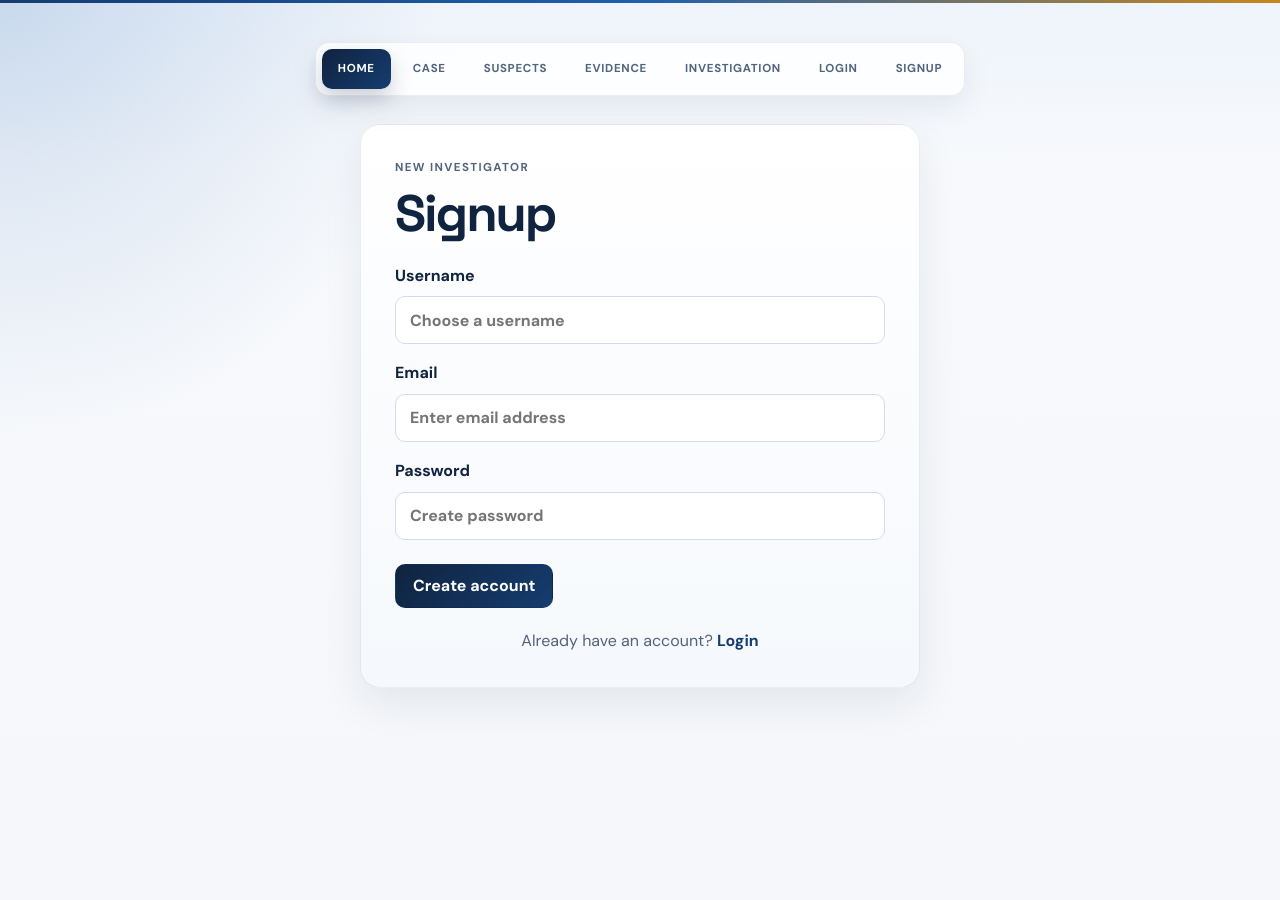
Scenario: Authentication pages › requires signup fields and a minimum password length
Click the button "Create account". click: {"x": 474, "y": 586}
box: [395,564,554,608]
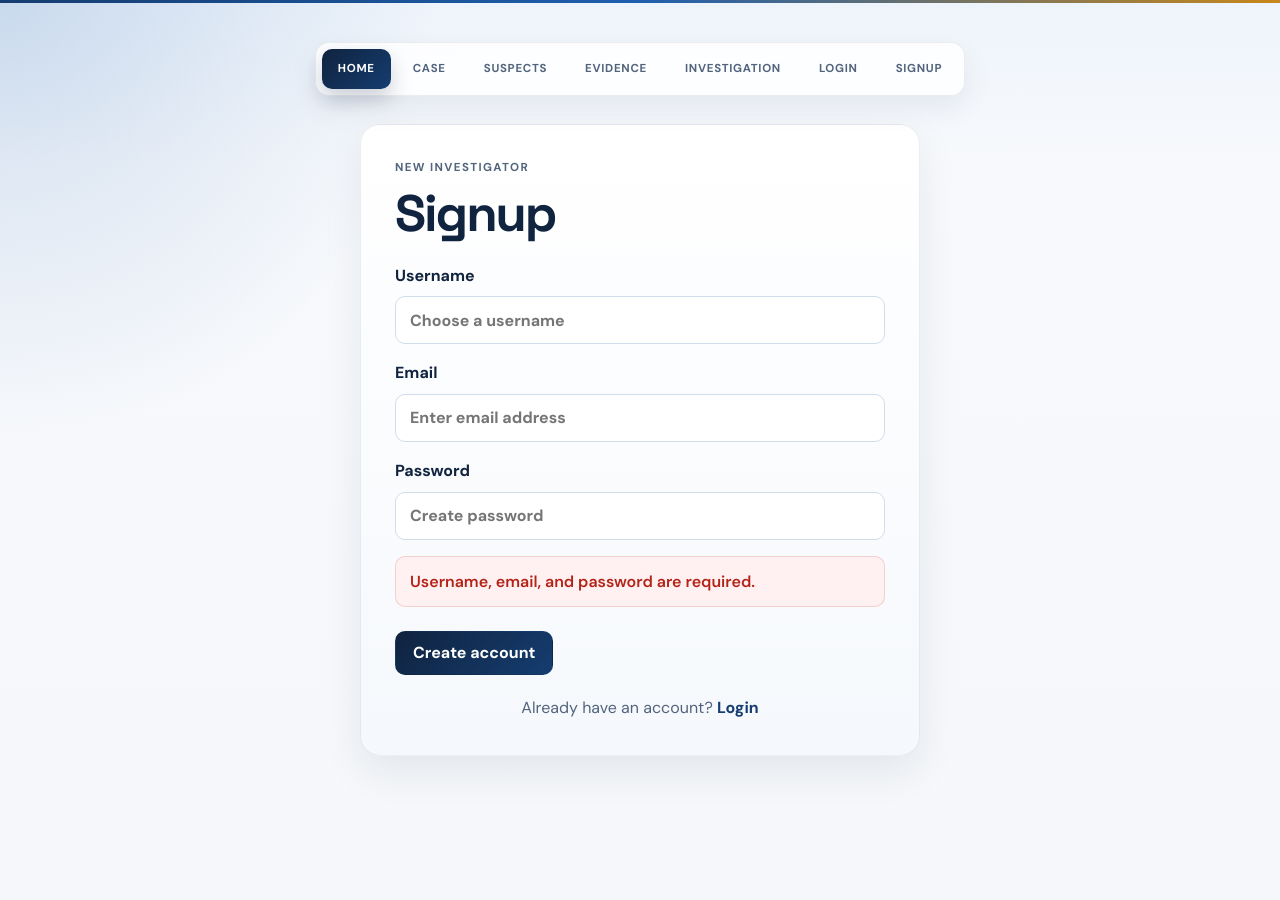
Expected: the text "Username, email, and password are required." is shown, [395,556,885,607]
Type "investigator" into the field labelled "Username". click: {"x": 640, "y": 320}
box: [395,296,885,344]
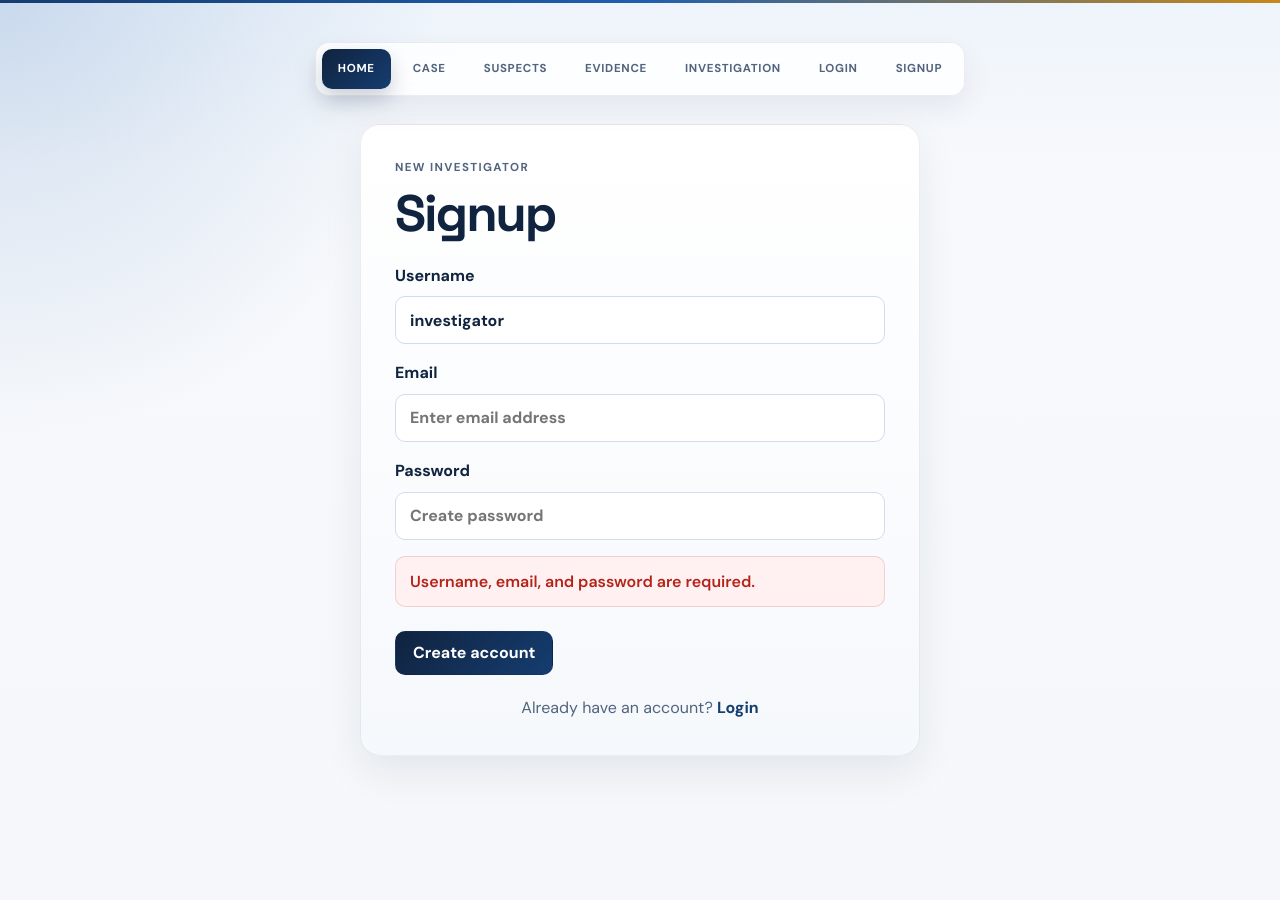
Type "investigator@example.com" into the field labelled "Email". click: {"x": 640, "y": 418}
box: [395,394,885,442]
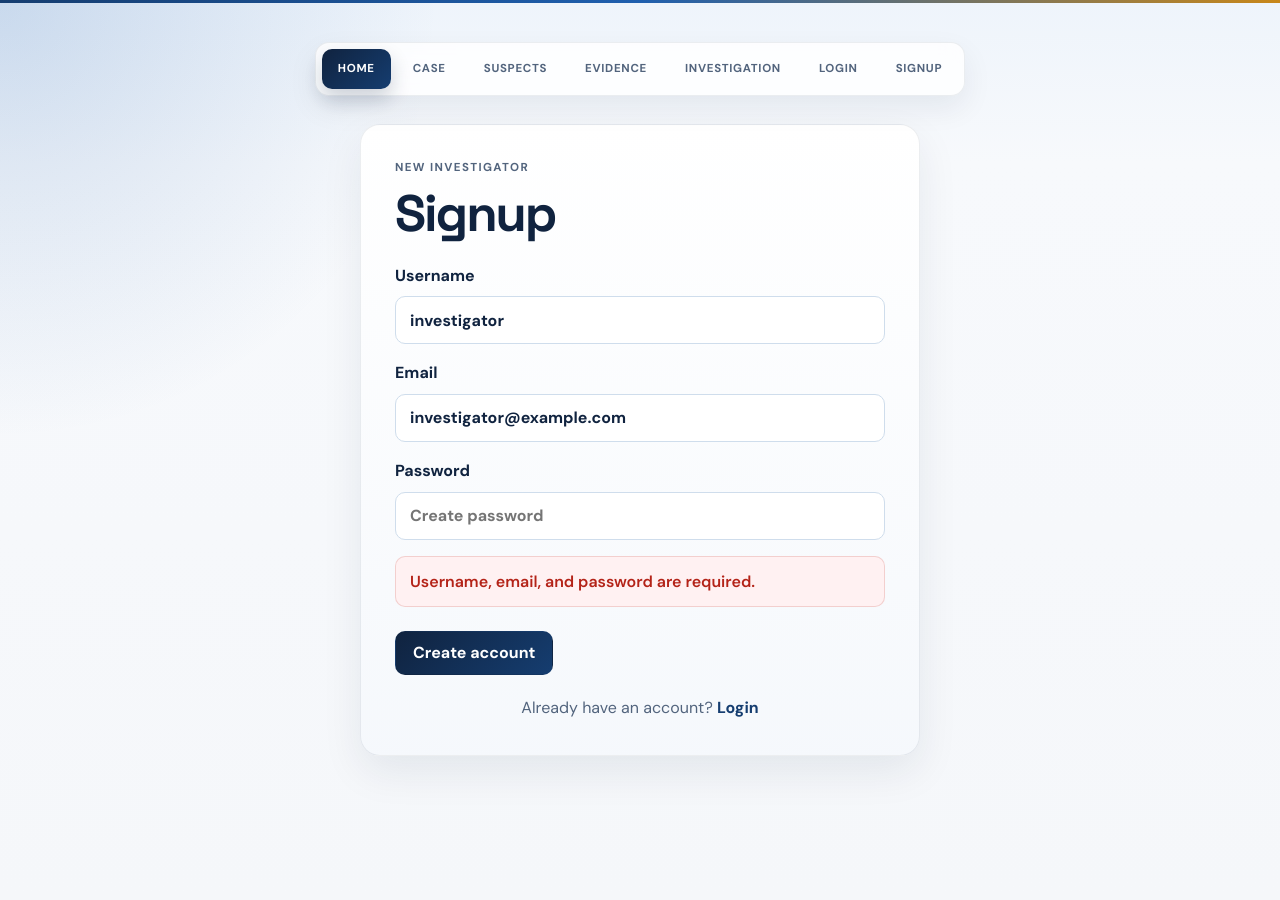
Type "short" into the password field labelled "Password". click: {"x": 640, "y": 516}
box: [395,492,885,540]
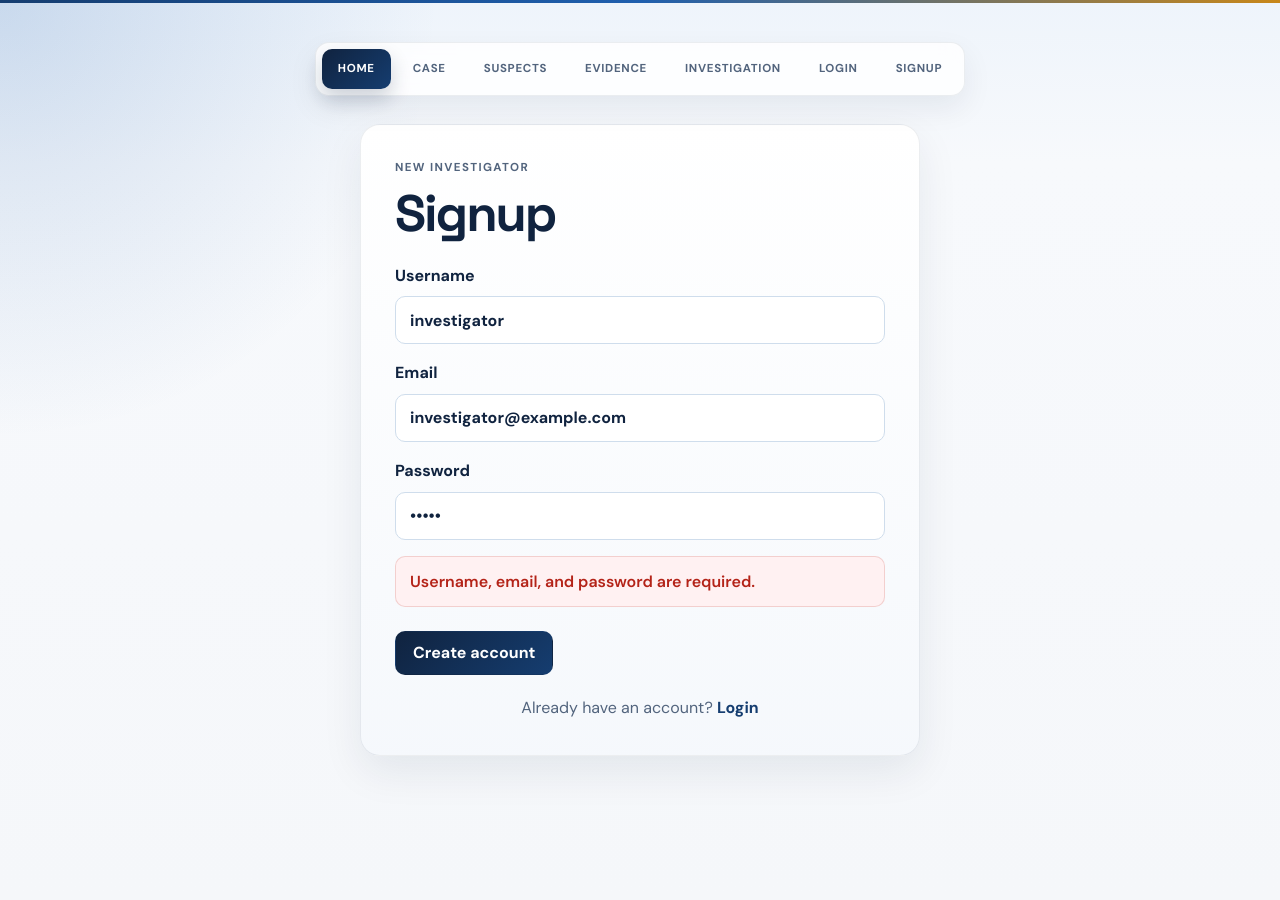
Click the button "Create account". click: {"x": 474, "y": 653}
box: [395,631,554,675]
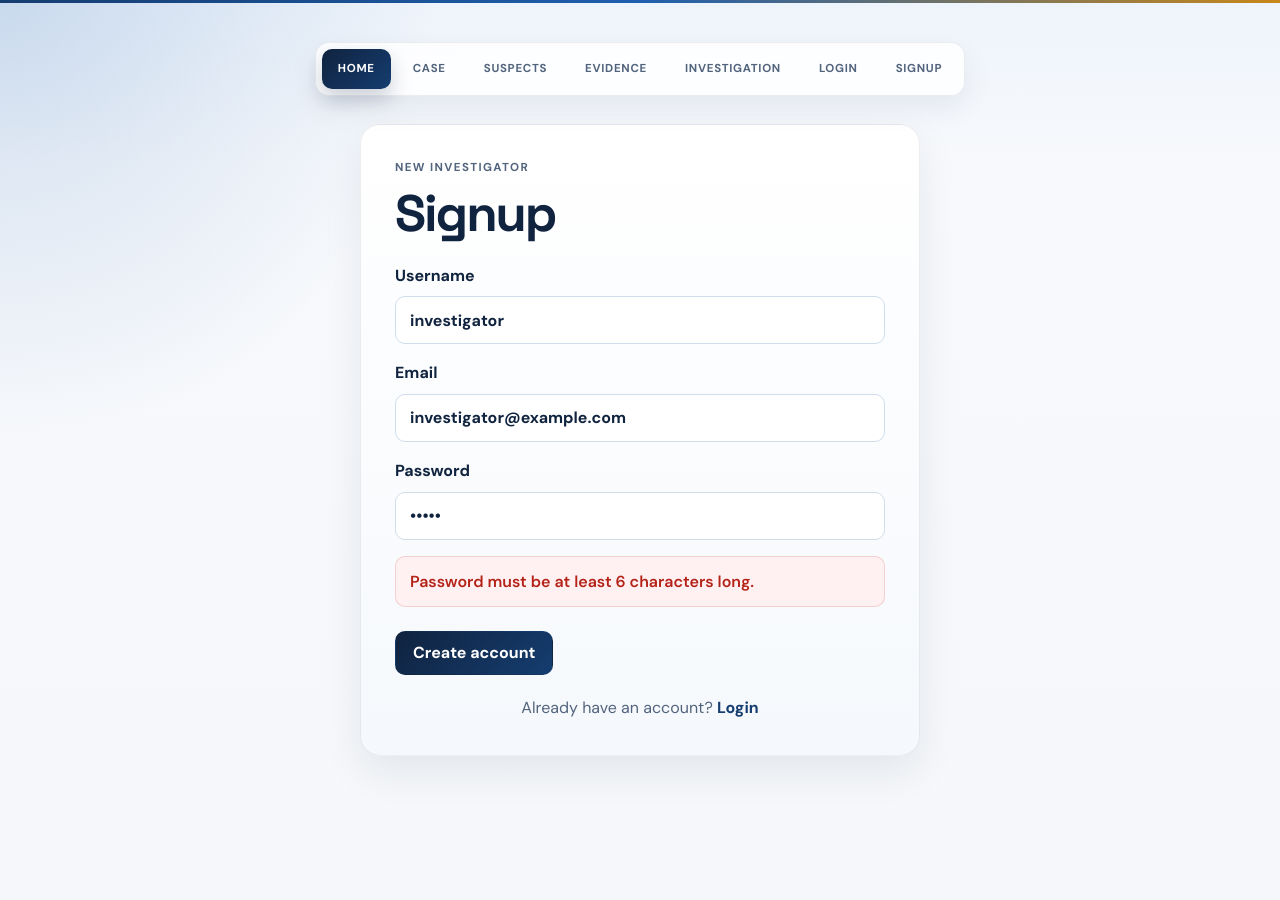
Expected: the text "Password must be at least 6 characters long." is shown, [395,556,885,607]
